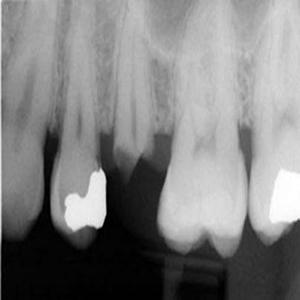tooth: (158, 85, 250, 255), (48, 2, 106, 250), (248, 3, 299, 244), (0, 2, 49, 246), (111, 0, 169, 181)
